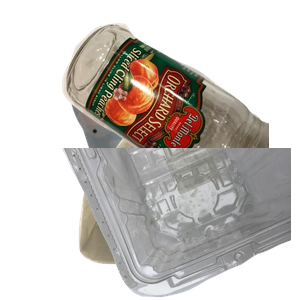glass: (60, 21, 300, 201)
metal: (69, 58, 300, 238)
plastic: (60, 148, 300, 300)
trash: (76, 124, 287, 300)
